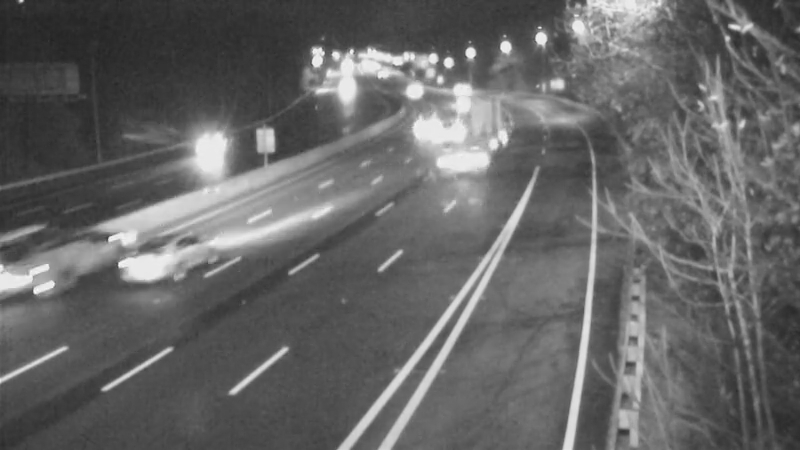vehicle: (430, 115, 510, 195), (105, 219, 185, 299), (1, 227, 79, 307), (432, 68, 482, 118), (394, 66, 444, 116), (438, 82, 488, 132), (402, 97, 452, 147), (427, 103, 477, 153), (187, 122, 237, 172)
